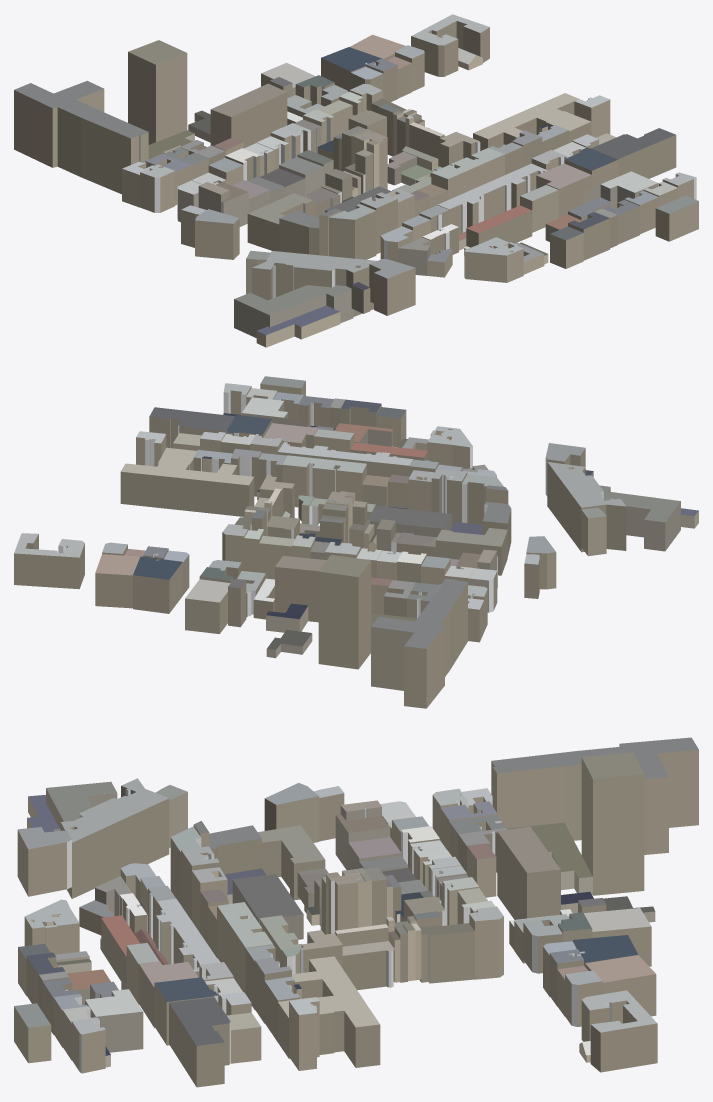
3 renders of one model, top to bottom at view 1: azimuth 30°, elevation 25°; view 2: azimuth 150°, elevation 25°; view 3: azimuth 270°, elevation 25°, orthographic. The views are drawn at different scales.
Parts seen in each view (by area): view 1: tuile; view 2: tuile; view 3: tuile.
Part boxes in pixels (x1,y1,x2,y2): tuile: (14,14,698,347); tuile: (14,376,698,708); tuile: (14,737,698,1087).
Bounding box in the file's own units: 294 × 59.2 × 287.
